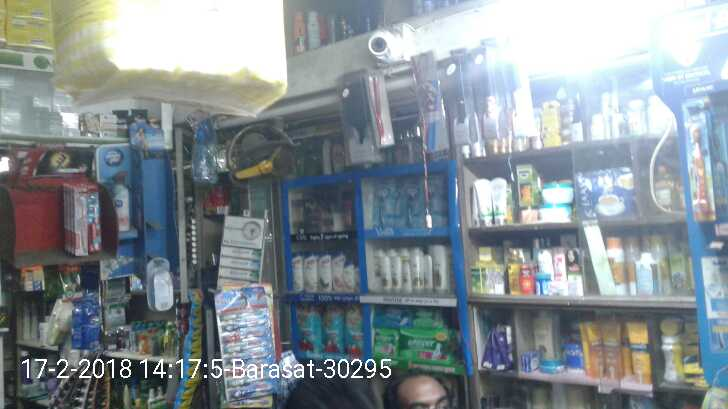ambipureVesus: (106, 143, 132, 242)
venus: (146, 258, 174, 310), (398, 182, 424, 229), (425, 178, 445, 229), (372, 184, 394, 226)
